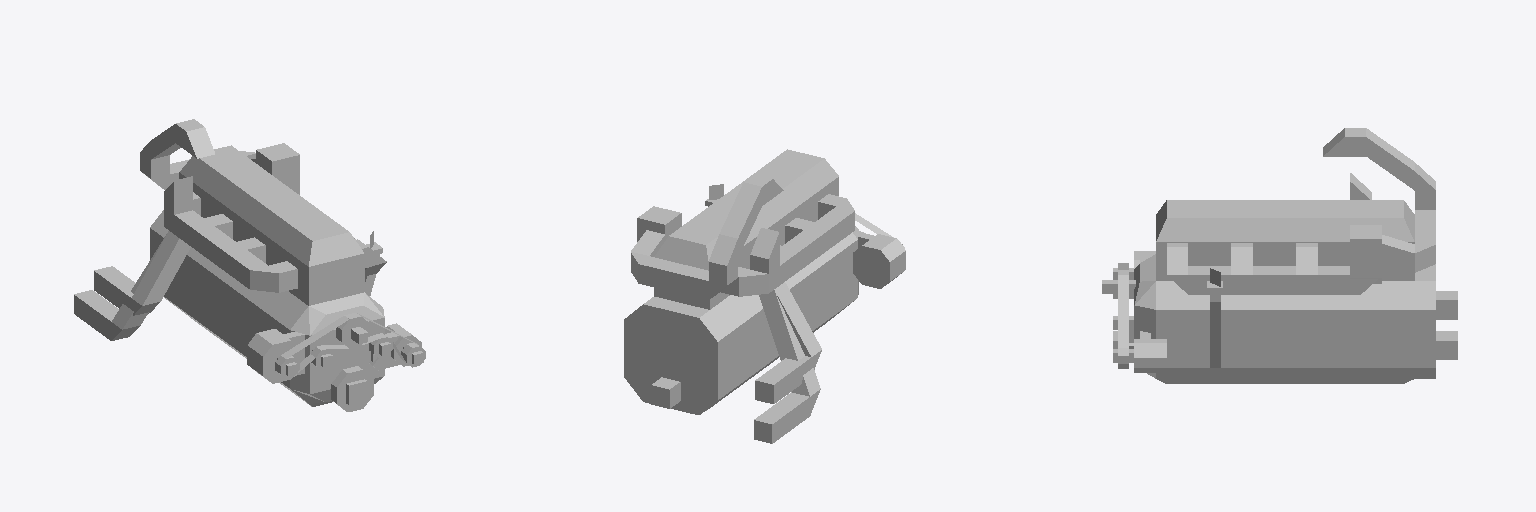
The model's file is v4performante.obj.
3 renders of one model, left to right at view 1: azimuth 30°, elevation 25°; view 2: azimuth 150°, elevation 25°; view 3: azimuth 270°, elevation 25°, orthographic.
Parts seen in each view (by area): view 1: block_front, turbo_right, exhaust_one_right, cuboid, valvecover_front, block_element1, block_element1.001, exhaust_two_right, valvecover_element1.001, valvecover_element1, alternator, valvecover_root (+7 smaller); view 2: cuboid, turbo_right, exhaust_two_right, exhaust_one_right, block_front, alternator, block_element1.001, valvecover_root, valvecover_front, exhaust_element1.001, valvecover_element1.001, exhaust_root (+5 smaller); view 3: cuboid, block_front, block_element1, block_element1.001, turbo_right, valvecover_element1, valvecover_element1.001, valvecover_front, valvecover_root, powersteering, belt, exhaust_two_right (+1 smaller).
Boxes of the visible parts, <box> form: block_front: <box>258,239,386,406</box>; turbo_right: <box>140,119,255,214</box>; exhaust_one_right: <box>94,231,190,315</box>; cuboid: <box>150,143,299,337</box>; valvecover_front: <box>277,213,363,266</box>; block_element1: <box>193,197,246,358</box>; block_element1.001: <box>225,220,355,387</box>; exhaust_two_right: <box>74,234,166,340</box>; valvecover_element1.001: <box>244,189,322,242</box>; valvecover_element1: <box>212,165,289,218</box>; alternator: <box>247,329,304,383</box>; valvecover_root: <box>180,145,257,195</box>; cuboid: <box>624,206,760,414</box>; turbo_right: <box>631,174,783,300</box>; exhaust_two_right: <box>754,290,820,443</box>; exhaust_one_right: <box>755,282,821,403</box>; block_front: <box>807,177,858,332</box>; alternator: <box>853,232,905,288</box>; block_element1.001: <box>768,200,825,365</box>; valvecover_root: <box>654,216,723,270</box>; valvecover_front: <box>761,149,838,199</box>; exhaust_element1.001: <box>785,214,843,261</box>; valvecover_element1.001: <box>728,169,806,222</box>; exhaust_root: <box>721,266,779,296</box>; cuboid: <box>1350,225,1435,383</box>; block_front: <box>1134,242,1220,383</box>; block_element1: <box>1285,242,1349,383</box>; block_element1.001: <box>1221,242,1284,383</box>; turbo_right: <box>1323,128,1435,272</box>; valvecover_element1: <box>1285,200,1349,241</box>; valvecover_element1.001: <box>1221,200,1284,241</box>; valvecover_front: <box>1156,200,1220,241</box>; valvecover_root: <box>1350,200,1414,241</box>; powersteering: <box>1134,331,1166,372</box>; belt: <box>1118,263,1128,347</box>; exhaust_two_right: <box>1436,291,1457,319</box>.
Bounding box in the file's own units: 0.625 × 0.7031 × 1.03.